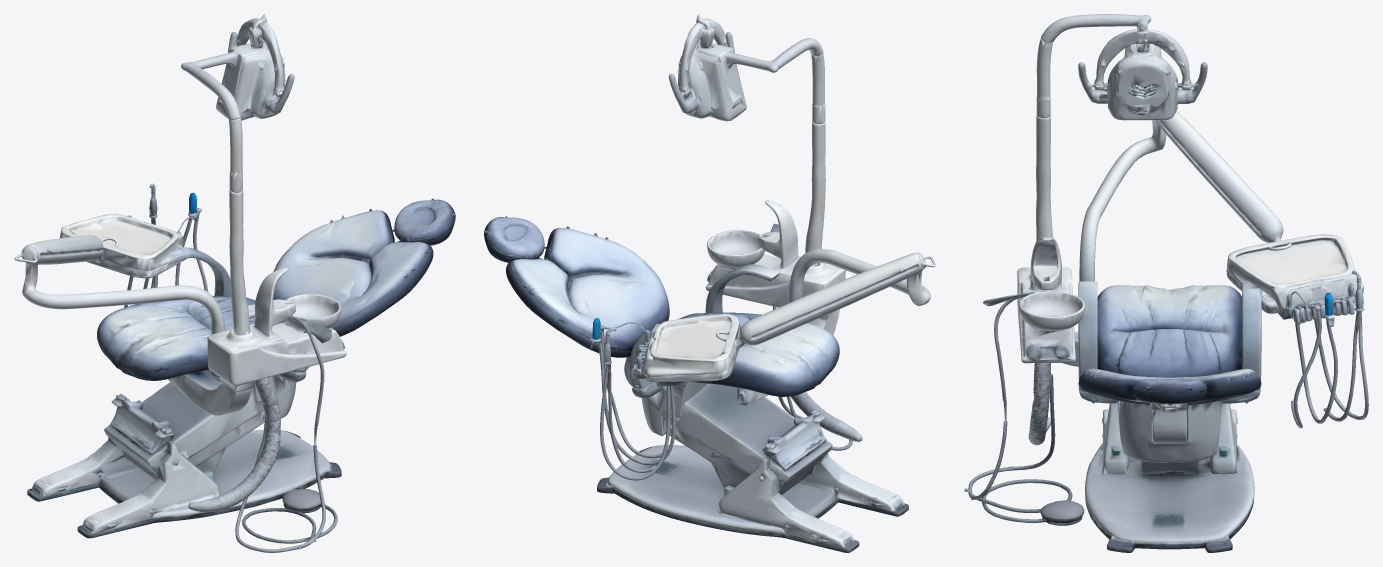
File: cadeira.glb
3 views of the same model, side by side, from view 1: azimuth 30°, elevation 25°; view 2: azimuth 150°, elevation 25°; view 3: azimuth 270°, elevation 25° (orthographic). The views are drawn at different scales.
Visible parts, largest first — view 1: cadeira; view 2: cadeira; view 3: cadeira.
Part boxes in pixels (x1,y1,x2,y2): cadeira: (14, 14, 455, 552); cadeira: (484, 14, 935, 552); cadeira: (964, 14, 1368, 552).
Size of the model in its own units: 0.9778 by 0.9801 by 0.7231.
Materials: 1 (1 with a texture image).
